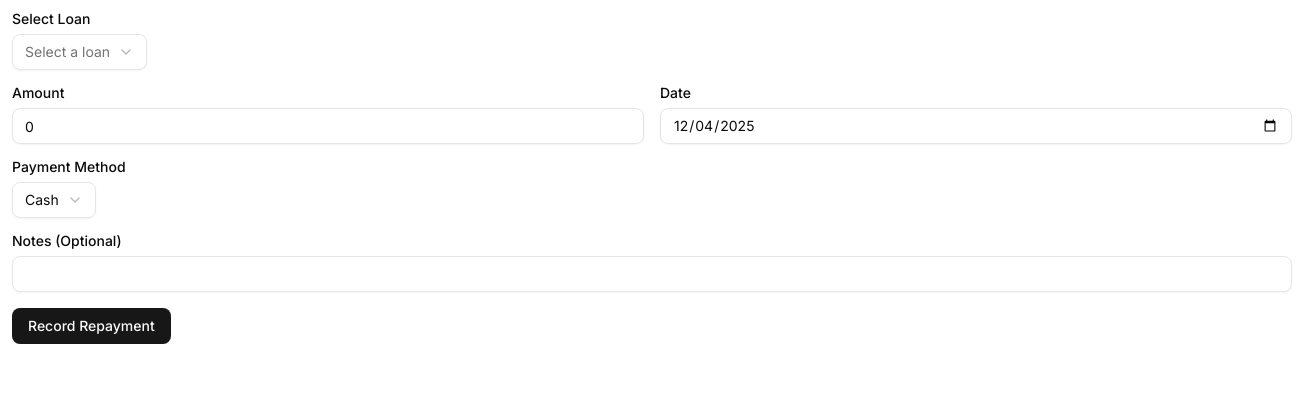
Test: RepaymentForm › validates required fields
Click the button "Record Repayment": [91, 326] box [12, 308, 171, 344]
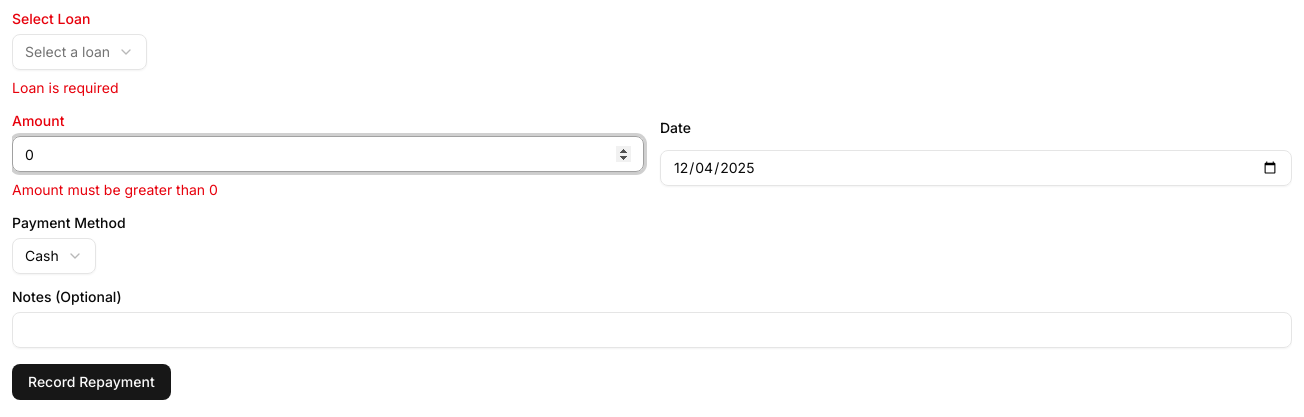
Expected: the text "Loan is required" is shown, [12, 79, 118, 96]
Expected: the text "Amount must be greater than 0" is shown, [12, 181, 218, 198]
